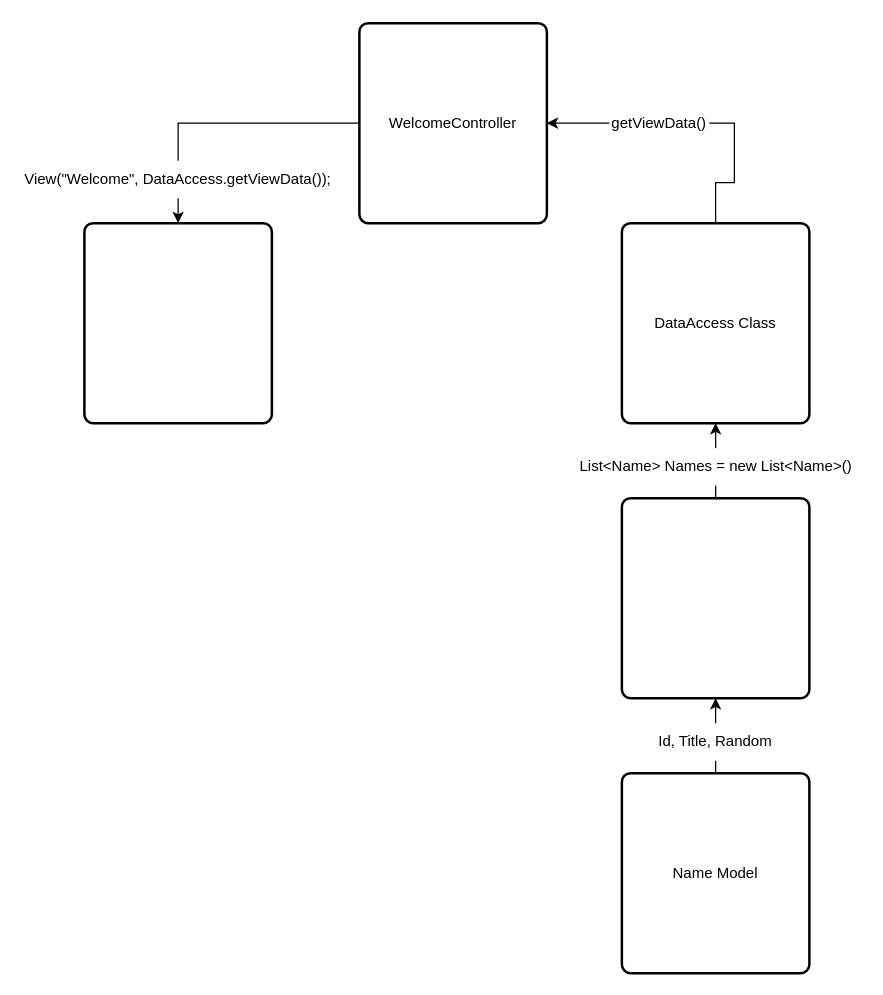
Some shapes in this 883 by 995 pixel diagram are drawn without their labels. The box of each missing label's shape, as (x1, y1, x2, y2) in pixels:
ViewData Model: (620, 496, 810, 699)
Welcome View: (82, 221, 272, 424)
